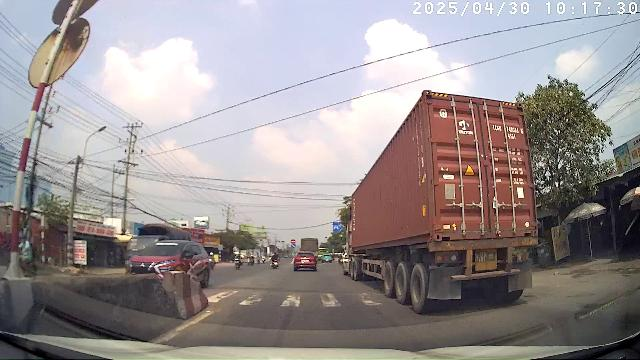102-cam-di-nguoc-chieu: (290, 239, 296, 243)
302a-huong-phai-di-vong-chuong-ngai-vat-1: (290, 244, 296, 248)
